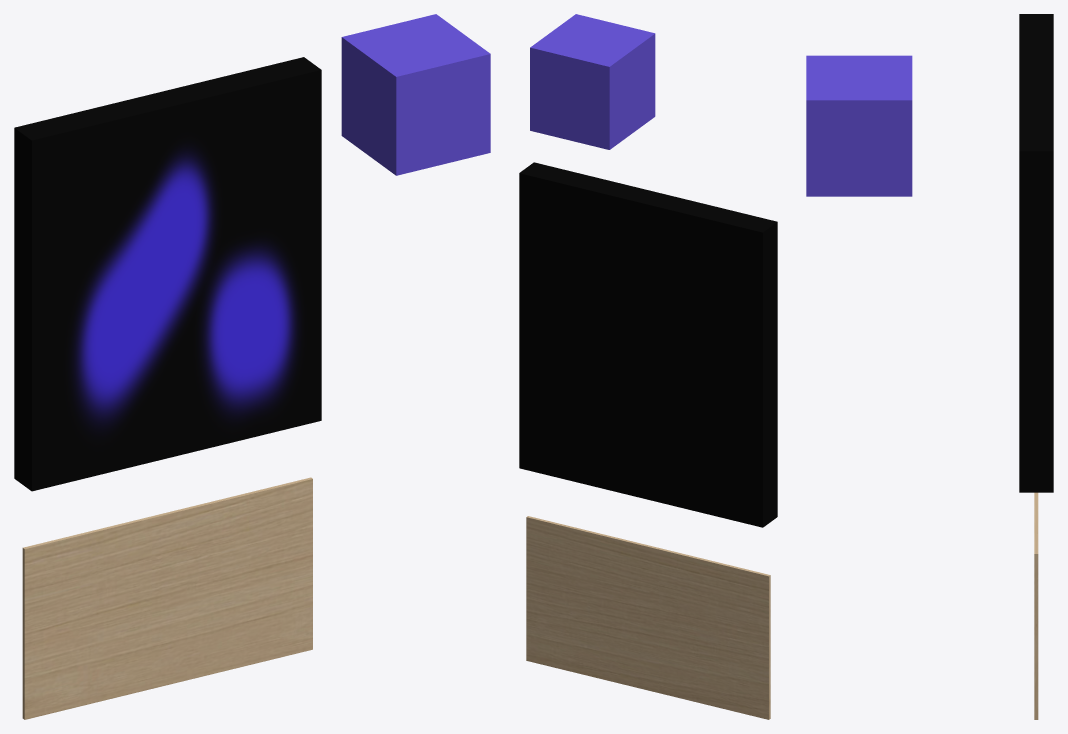
The picture shows the model from 3 angles, left to right: view 1: azimuth 30°, elevation 25°; view 2: azimuth 150°, elevation 25°; view 3: azimuth 270°, elevation 25°; orthographic projection. The views are drawn at different scales.
Parts seen in each view (by area): view 1: 1, Cube, 立方体; view 2: 1, Cube, 立方体; view 3: 1, 立方体, Cube.
Part boxes in pixels (x1=…): 1: x1=14, y1=57, x2=321, y2=491; Cube: x1=22, y1=477, x2=312, y2=719; 立方体: x1=341, y1=14, x2=490, y2=175; 1: x1=519, y1=162, x2=777, y2=527; Cube: x1=526, y1=516, x2=770, y2=719; 立方体: x1=530, y1=14, x2=655, y2=149; 1: x1=1019, y1=14, x2=1053, y2=492; 立方体: x1=806, y1=55, x2=912, y2=196; Cube: x1=1034, y1=492, x2=1038, y2=719.
Size of the model in its own units: 1.21 by 2.21 by 0.7629.
Materials: 3 (2 with a texture image).
